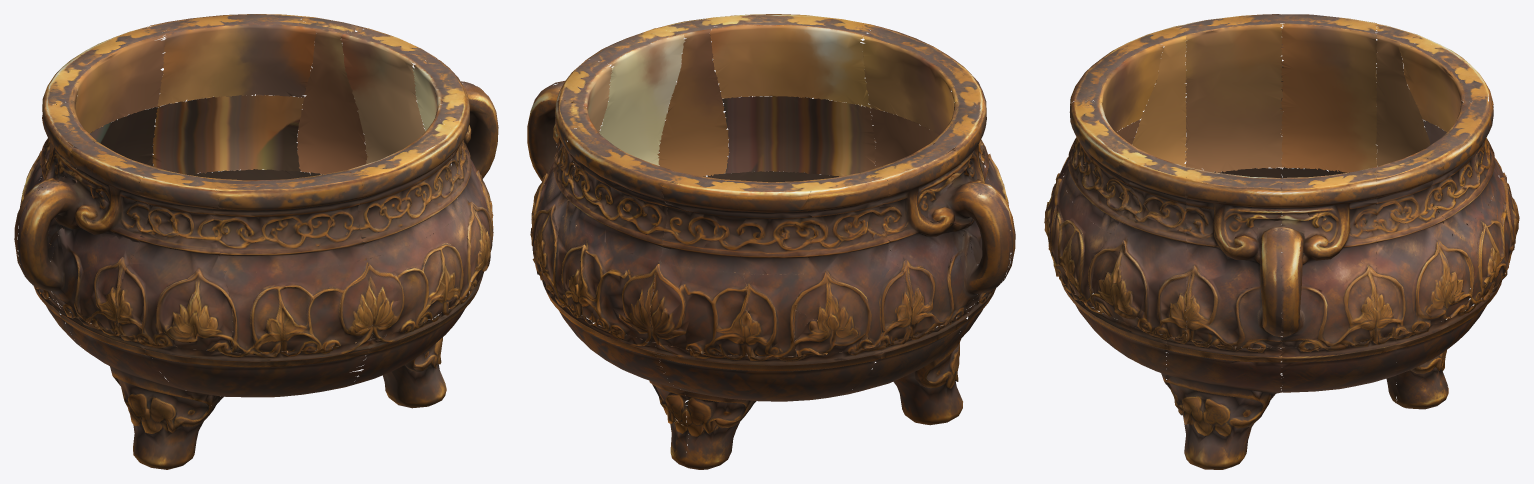
Rendered from hi3d-incense.glb.
The picture shows the model from 3 angles, left to right: view 1: azimuth 30°, elevation 25°; view 2: azimuth 150°, elevation 25°; view 3: azimuth 270°, elevation 25°; orthographic projection. The views are drawn at different scales.
Parts seen in each view (by area): view 1: incense; view 2: incense; view 3: incense.
Part boxes in pixels (<box>): incense: <box>14,14,498,469</box>; incense: <box>527,14,1015,469</box>; incense: <box>1044,14,1519,469</box>.
Bounding box in the file's own units: 1.47 × 0.9009 × 1.28.
Materials: 1 (1 with a texture image).
